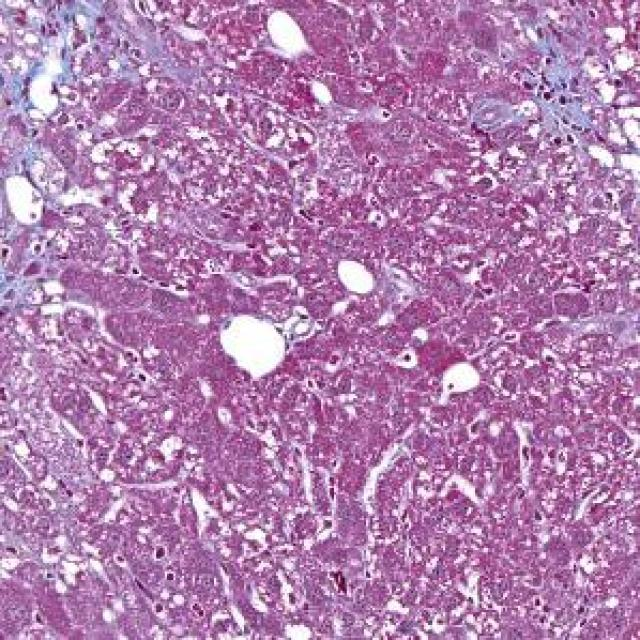fibrosis: (11, 11, 206, 135), (529, 53, 631, 167)
